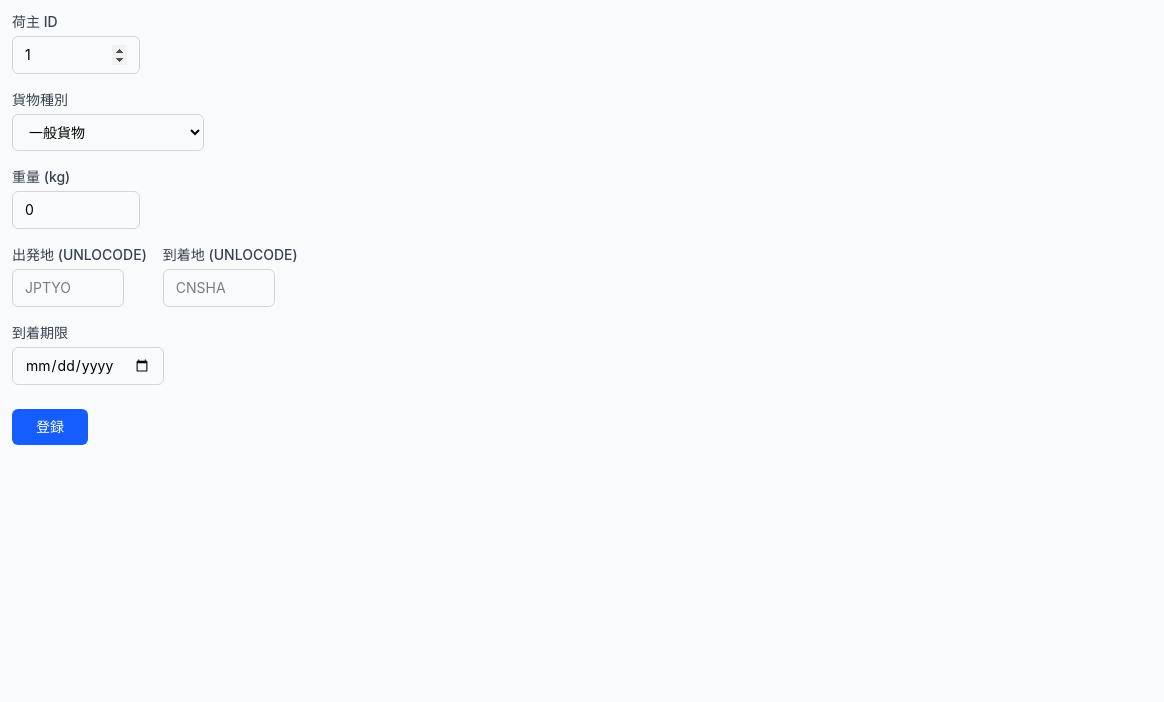
Test: BookingForm › 危険物を選択すると危険物申告情報フィールドが表示される
Expected: the field labelled "UN コード" is not shown
Step 1. Select "危険物" in the dropdown labelled "貨物種別" → (108, 132), box [12,114,204,151]
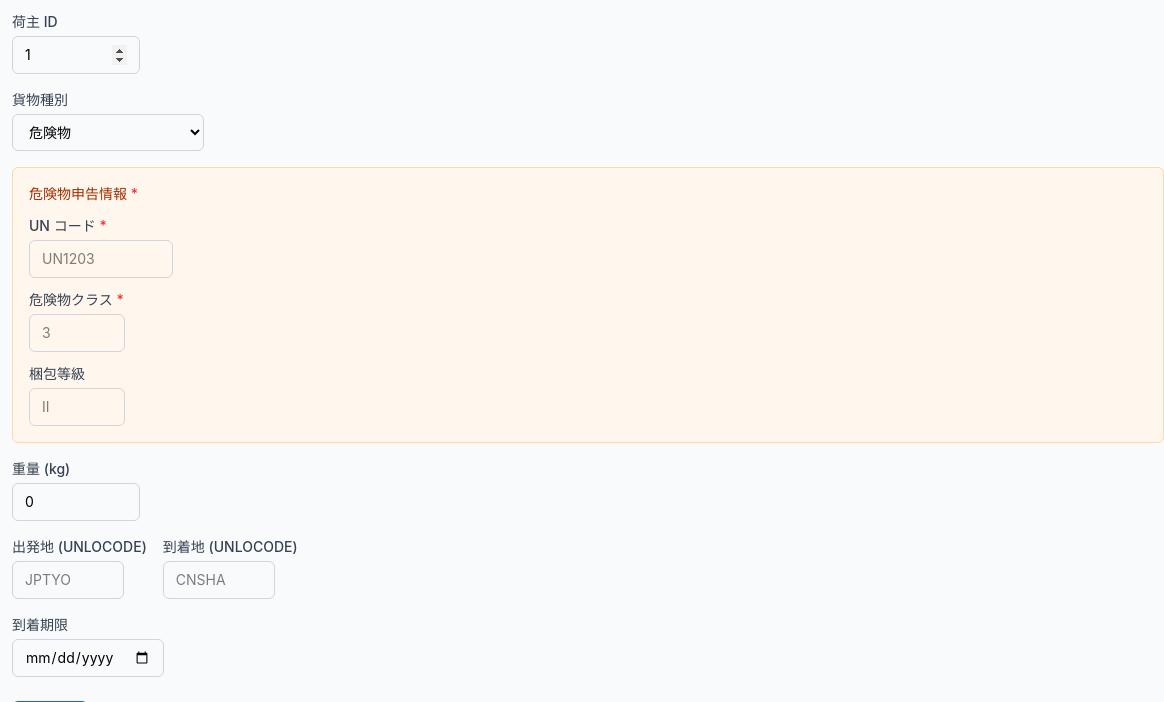
Now the field labelled "UN コード *" is shown, box [29,240,173,278]
Now the field labelled "危険物クラス *" is shown, box [29,314,125,352]
